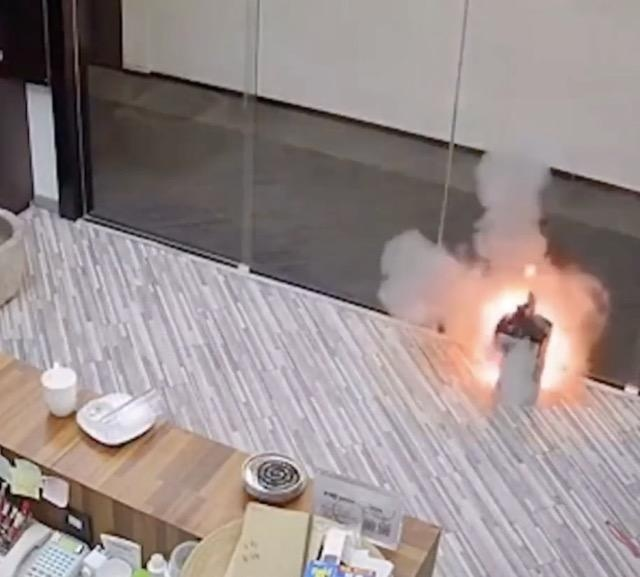fire: (476, 285, 580, 399)
smoke: (446, 146, 584, 275)
